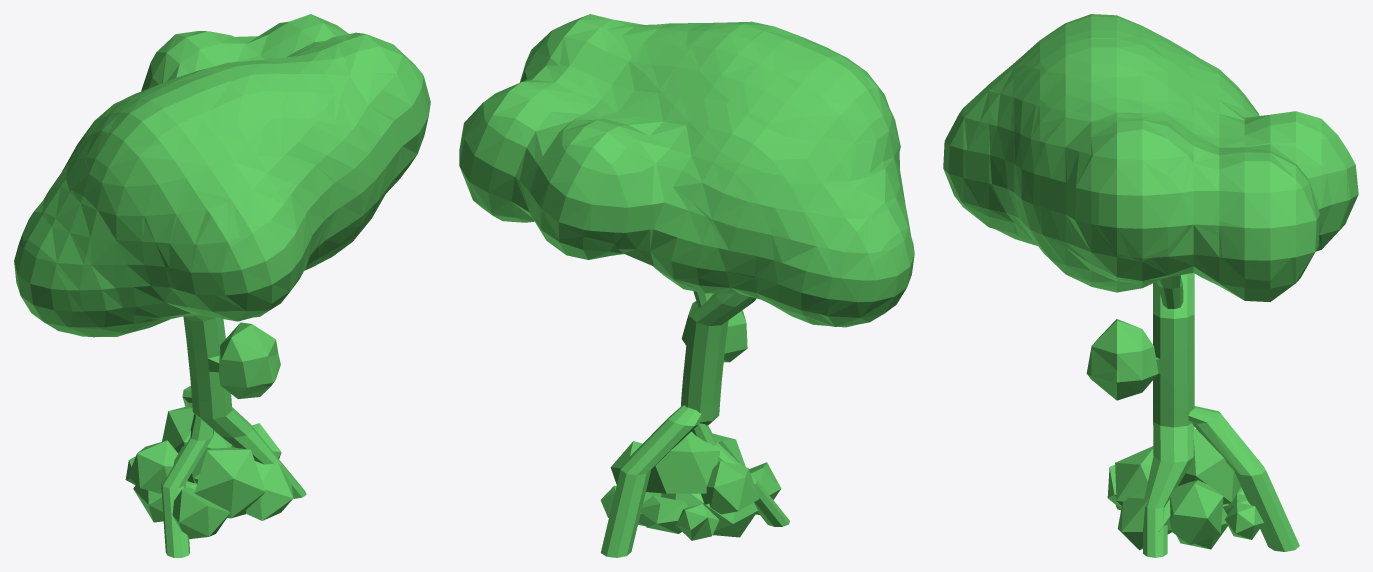
Rendered from arbol roca grande.fbx.
3 renders of one model, left to right at view 1: azimuth 30°, elevation 25°; view 2: azimuth 150°, elevation 25°; view 3: azimuth 270°, elevation 25°, orthographic. The views are drawn at different scales.
Visible parts, largest first — view 1: arbol; view 2: arbol; view 3: arbol.
Part boxes in pixels (x1,y1,x2,y2): arbol: [14, 14, 430, 557]; arbol: [459, 14, 914, 557]; arbol: [943, 14, 1358, 557].
Bounding box in the file's own units: 3310 × 3834 × 2971.
